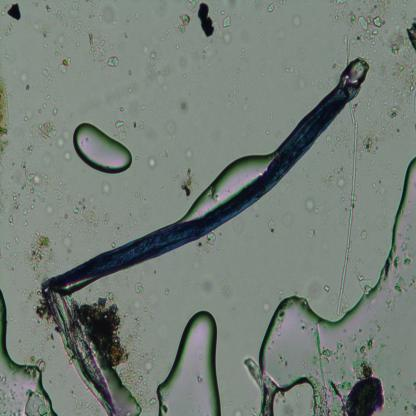Air bubble: (252, 157, 416, 416), (154, 310, 223, 416), (0, 288, 55, 416), (183, 142, 268, 221), (74, 122, 134, 176)
Background material: (336, 95, 362, 318), (334, 333, 384, 416), (0, 159, 55, 226), (381, 55, 416, 136), (331, 0, 393, 42), (118, 354, 160, 414), (24, 229, 58, 281), (306, 318, 329, 387), (67, 191, 102, 233), (142, 44, 170, 94), (188, 0, 221, 41), (328, 122, 360, 160), (387, 14, 416, 55), (64, 388, 98, 416), (124, 314, 145, 356), (0, 67, 10, 152), (23, 387, 52, 416), (386, 272, 414, 302), (42, 48, 57, 100), (88, 33, 108, 71), (358, 122, 381, 154), (36, 111, 56, 146), (31, 14, 52, 47), (326, 166, 349, 196), (225, 70, 241, 112), (2, 0, 19, 36), (356, 262, 376, 291), (35, 294, 54, 324), (27, 352, 50, 376), (312, 393, 336, 416), (179, 170, 198, 199), (218, 8, 233, 43), (96, 0, 117, 25), (145, 148, 170, 169), (50, 0, 70, 26), (200, 40, 219, 67), (215, 280, 238, 301), (20, 107, 36, 137), (174, 10, 191, 38), (287, 59, 304, 86), (95, 174, 114, 198), (111, 116, 130, 140), (400, 240, 413, 273), (56, 127, 74, 150), (58, 233, 74, 257), (164, 118, 180, 142), (301, 197, 322, 215), (40, 326, 55, 350), (341, 37, 353, 66), (4, 254, 23, 272), (20, 280, 38, 299), (204, 230, 222, 249), (125, 207, 138, 232), (113, 220, 127, 243), (53, 32, 66, 56), (131, 276, 146, 296), (21, 139, 38, 156), (128, 186, 144, 203), (153, 0, 169, 17), (266, 0, 286, 13), (57, 57, 72, 74), (283, 209, 298, 226), (175, 94, 188, 113), (271, 24, 287, 39), (71, 17, 83, 37), (333, 54, 345, 74), (48, 214, 62, 231), (40, 151, 54, 168), (25, 322, 38, 340), (180, 146, 193, 163), (289, 13, 303, 28), (107, 55, 121, 70), (103, 204, 112, 226), (0, 386, 7, 414), (132, 117, 147, 130), (303, 230, 318, 242), (53, 188, 64, 204), (297, 42, 307, 59), (177, 54, 188, 69), (359, 226, 368, 242), (160, 30, 172, 40), (6, 408, 21, 416), (21, 71, 30, 84), (63, 152, 73, 162), (265, 221, 275, 231), (9, 388, 16, 401), (0, 372, 7, 385), (3, 241, 12, 251), (162, 286, 171, 296), (323, 284, 332, 294), (316, 79, 326, 88), (172, 169, 180, 180), (124, 14, 132, 24), (2, 50, 10, 60), (268, 106, 273, 121), (72, 3, 81, 11), (44, 4, 52, 13), (52, 108, 60, 117), (14, 232, 20, 244), (6, 315, 16, 322), (13, 70, 19, 81), (134, 10, 142, 18), (90, 11, 97, 20), (52, 98, 59, 107), (265, 304, 272, 313), (140, 102, 146, 112), (240, 14, 247, 22), (25, 86, 32, 94), (121, 30, 128, 38), (32, 1, 40, 8), (85, 0, 94, 6), (48, 205, 53, 215), (290, 118, 296, 126), (75, 40, 81, 48), (82, 29, 88, 37), (126, 85, 132, 93), (33, 346, 38, 355), (264, 128, 270, 135), (42, 101, 46, 111), (260, 69, 265, 77), (110, 241, 115, 249), (63, 212, 68, 219), (120, 105, 125, 112), (128, 68, 132, 76), (182, 73, 187, 79), (175, 43, 179, 50), (38, 108, 43, 113), (240, 47, 245, 52), (67, 232, 72, 236), (110, 44, 112, 50)
Cellulose filter fibre: (48, 292, 122, 416)
Cotton: (39, 77, 363, 304)
